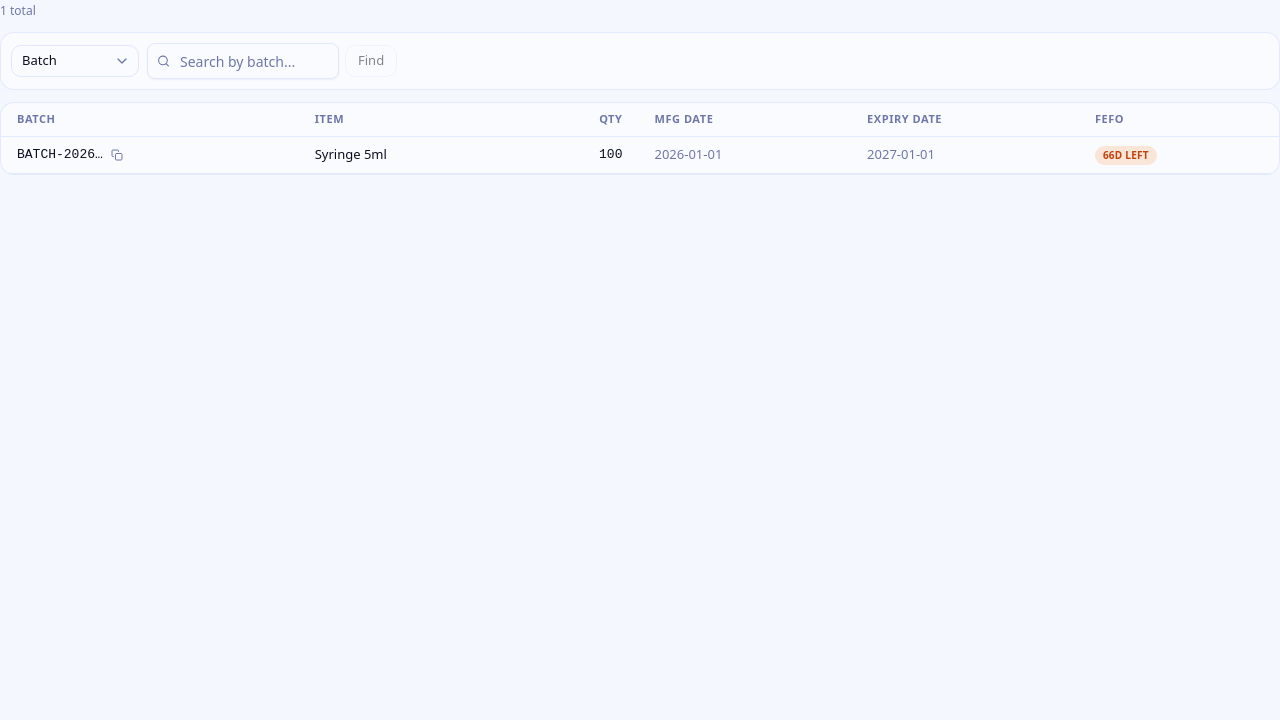
it: InventoryConsumablesPanel — row click opens a detail drawer, Edit lives inside it › a non-manager can still open the drawer by clicking a row, but sees no Edit button inside it
The image size is (1280, 720).
Click the text "BATCH-2026…" at x=60, y=155, box [17,145,103,164]
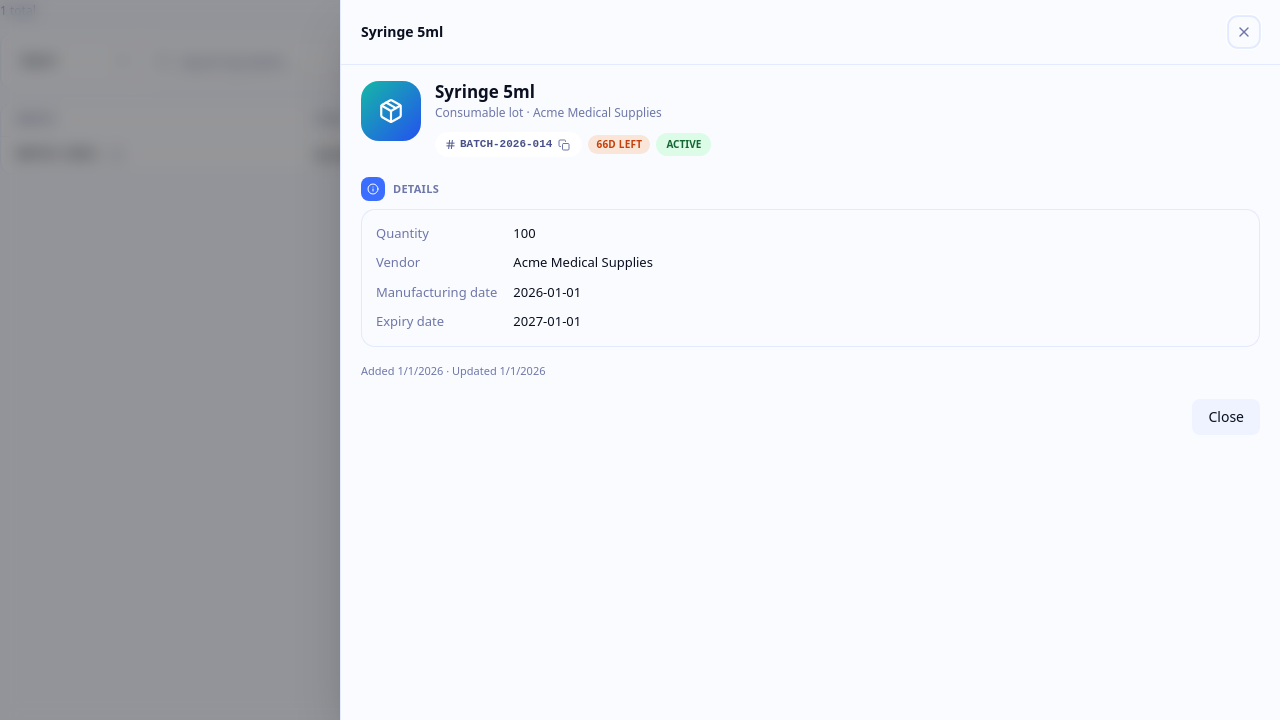
Check: the heading "Syringe 5ml" is shown, box [361,22,443,42]
